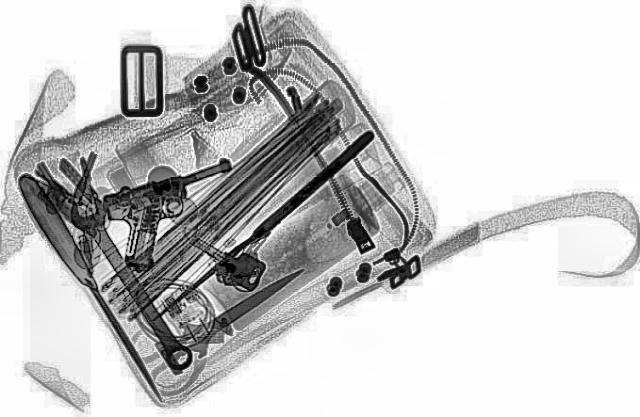Gun: (76, 159, 280, 273)
Knife: (8, 175, 174, 401), (148, 257, 326, 363)
Wrench: (58, 196, 202, 372)
